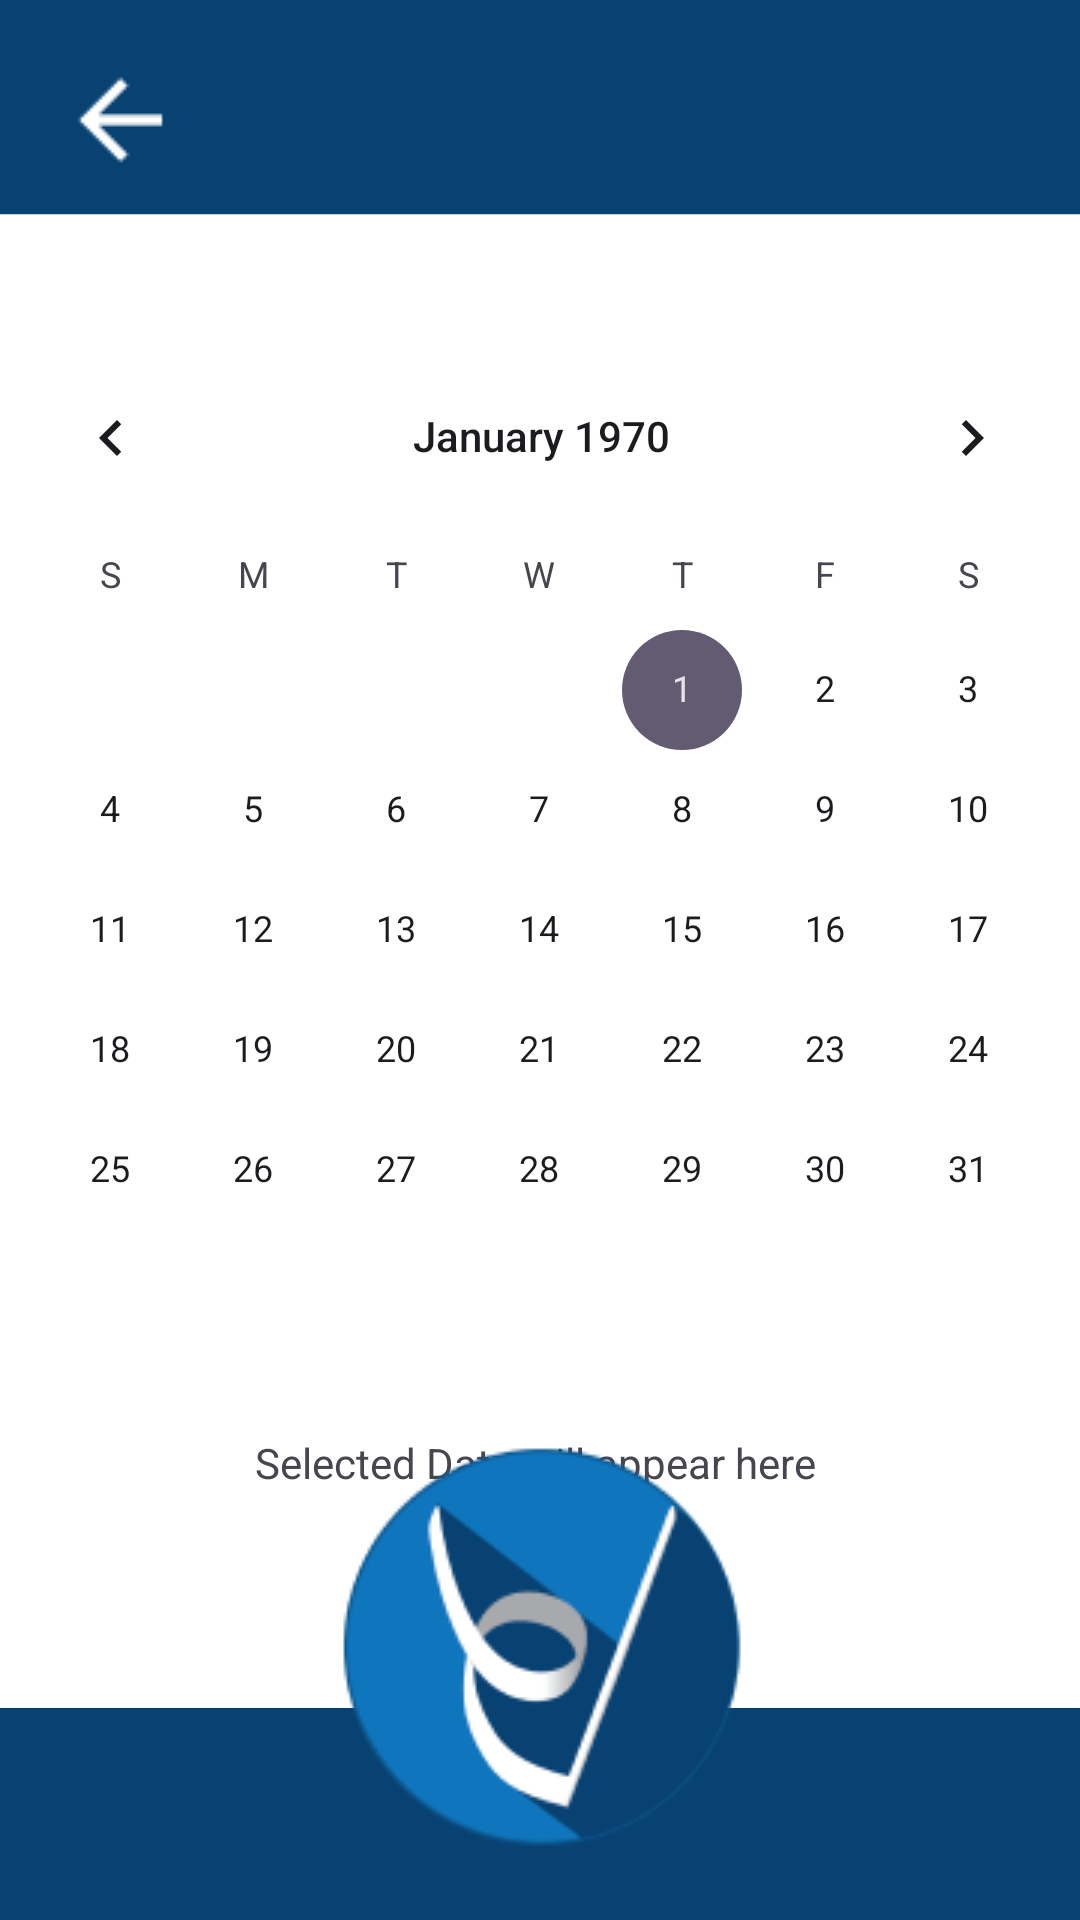

Icons on this 1080 x 1920 Android screen, each with the point to tap as (x=x, y=y):
backktome: (x=120, y=120)
